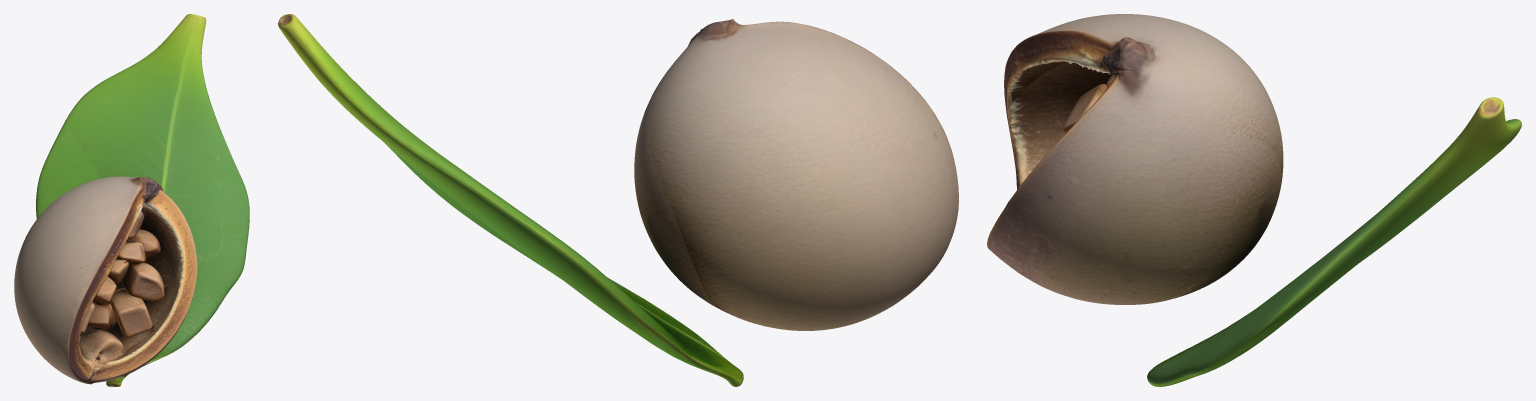
File: caodoukou.glb
The picture shows the model from 3 angles, left to right: view 1: azimuth 30°, elevation 25°; view 2: azimuth 150°, elevation 25°; view 3: azimuth 270°, elevation 25°; orthographic projection. The views are drawn at different scales.
Parts seen in each view (by area): view 1: node_0; view 2: node_0; view 3: node_0.
Boxes of the visible parts, x1,y1,x2,y2 form: node_0: (14,14,249,386); node_0: (278,14,958,386); node_0: (987,14,1521,386).
Bounding box in the file's own units: 0.7806 × 0.6607 × 0.7529.
Materials: 1 (1 with a texture image).
